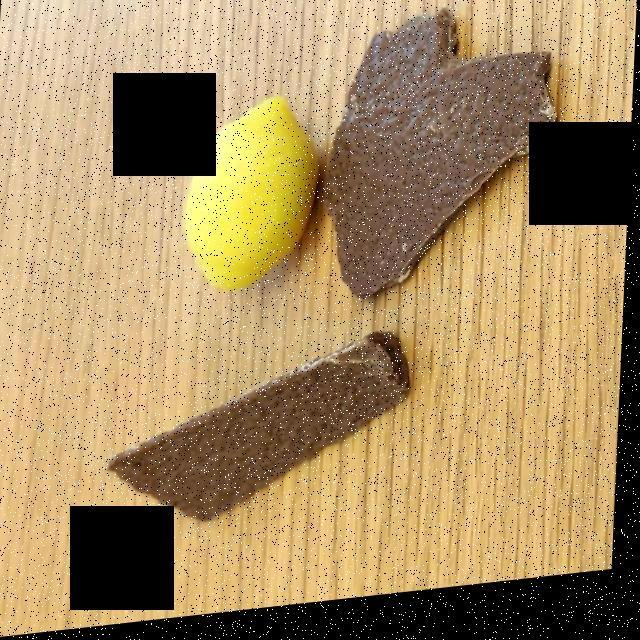chocolate: (113, 33, 548, 527)
